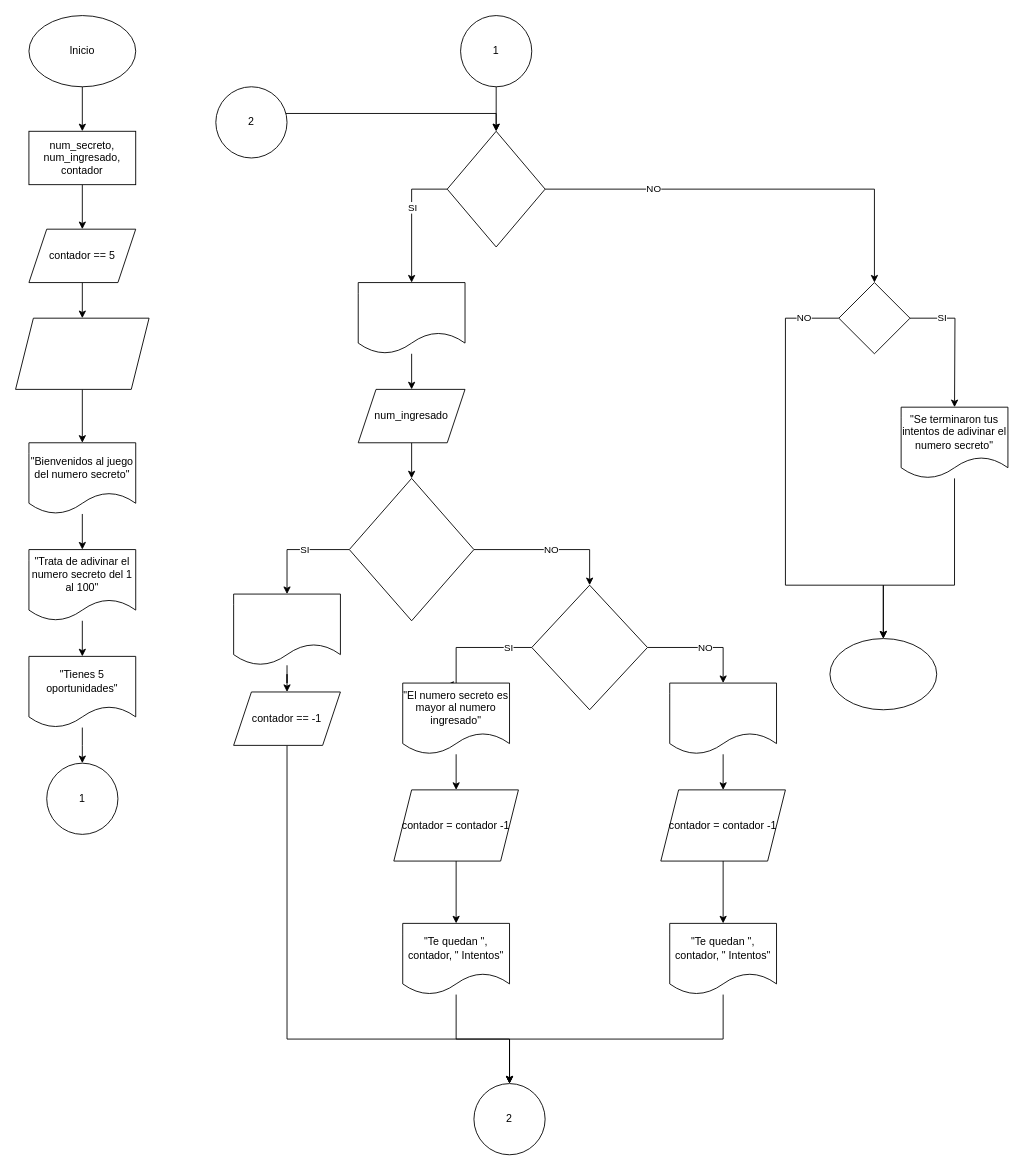
This 1024x1170 diagram has some shape labels left out. The shapes that lost their labels are listed below. From the top down, each one's centre as x and y in pixels, then its label:
the point at 495,188: Mientras contador > 0
the point at 411,318: "Ingresa un numero"
the point at 874,318: SI contador == 0
the point at 82,353: num_secreto == 77
the point at 411,549: SI num_ingresado == num_secreto
the point at 286,629: "Felicidades adivinaste el numero secreto", num_ingresado
the point at 589,647: SI num_ingresado < num_secreto
the point at 883,674: Fin
the point at 723,718: "El numero secreto es menor al numero ingresado"
